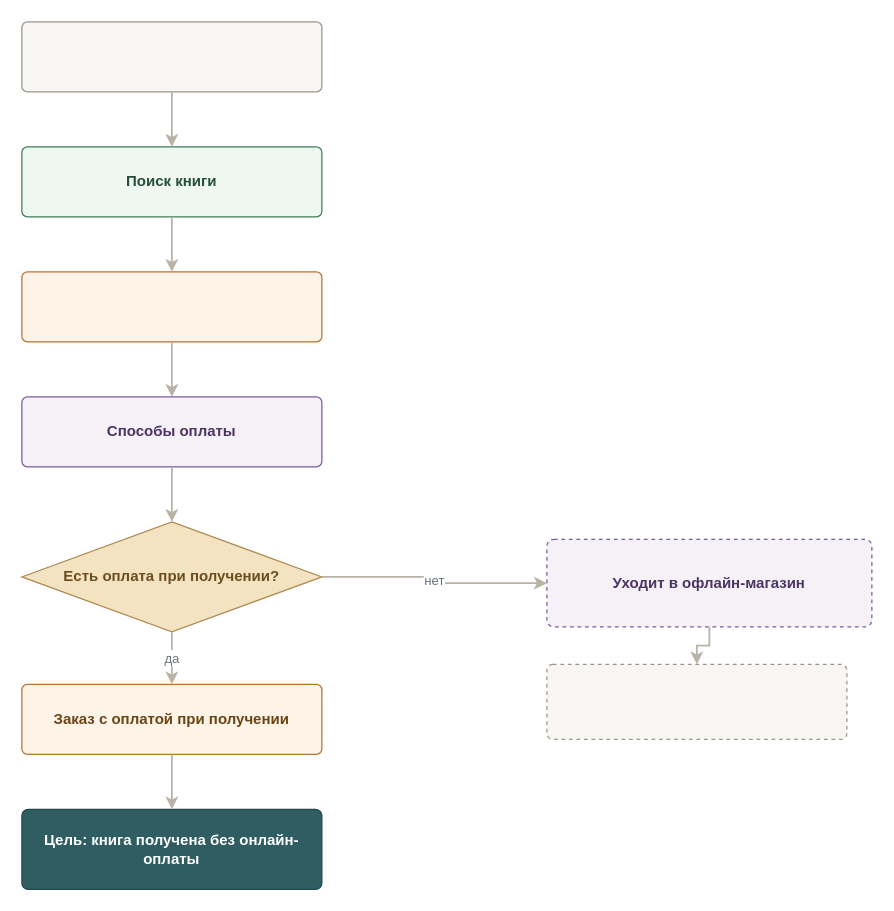
The diagram is 894 pixels wide and 911 high, and some of its shapes have lost their labels. Here are the shapes that lost their labels. From the top down, the box of each, then its label:
(21, 21, 322, 92): Старт: зашёл на сайт BookBox
(21, 271, 322, 342): Карточка книги: цена
(546, 663, 847, 739): Не клиент BookBox
